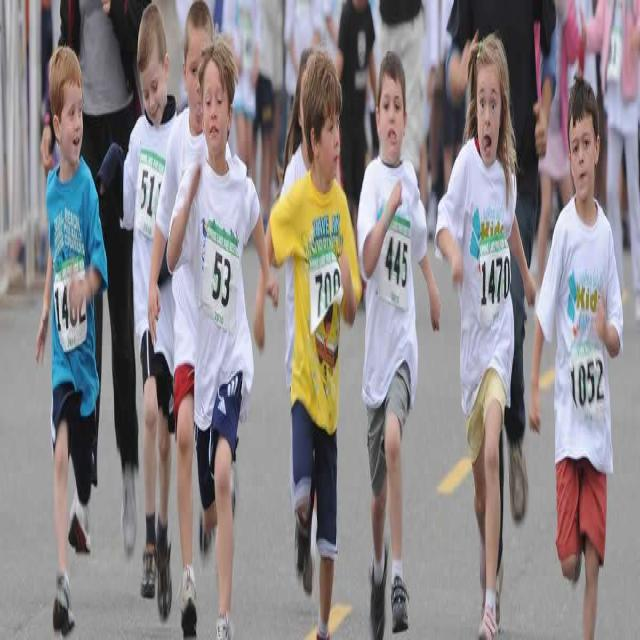Person: (434, 32, 536, 640), (167, 36, 269, 640), (265, 52, 361, 640), (528, 80, 624, 640), (357, 50, 440, 640), (99, 4, 177, 619), (148, 0, 213, 640), (36, 46, 106, 634)
